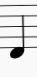D: (7, 3, 27, 61)
